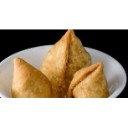samosa: (39, 29, 90, 85), (10, 58, 53, 97), (68, 62, 109, 98)
